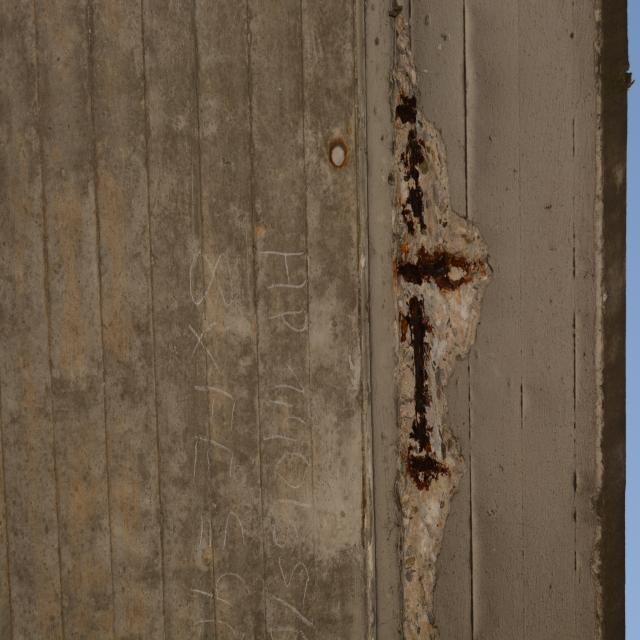corrosion: (366, 63, 475, 525)
